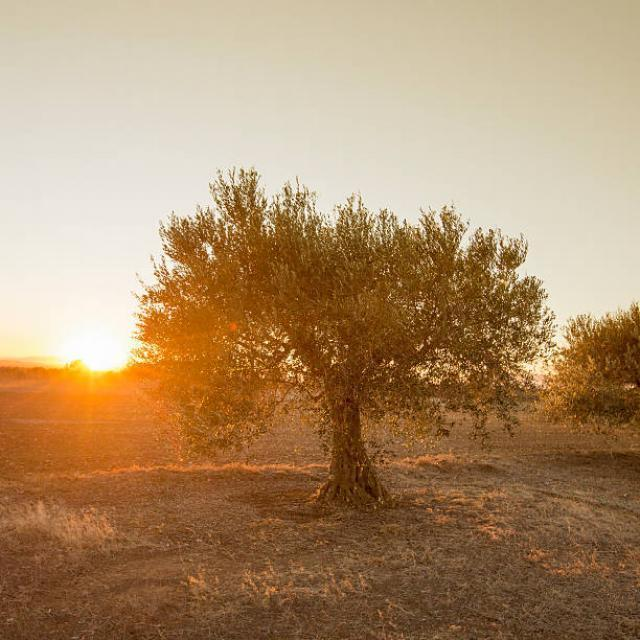tree: (128, 171, 556, 513), (554, 296, 640, 442)
